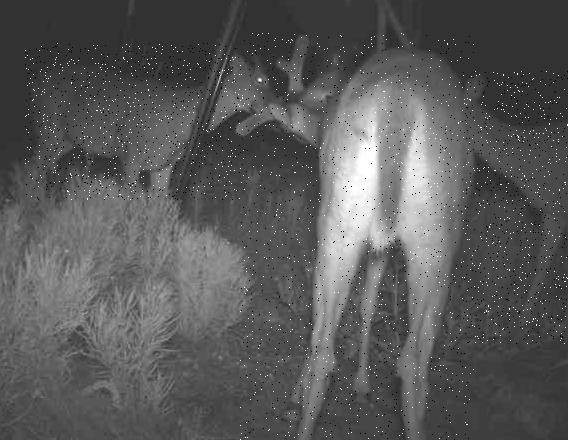Deer: (240, 33, 474, 440), (26, 43, 289, 200), (462, 71, 568, 345)
